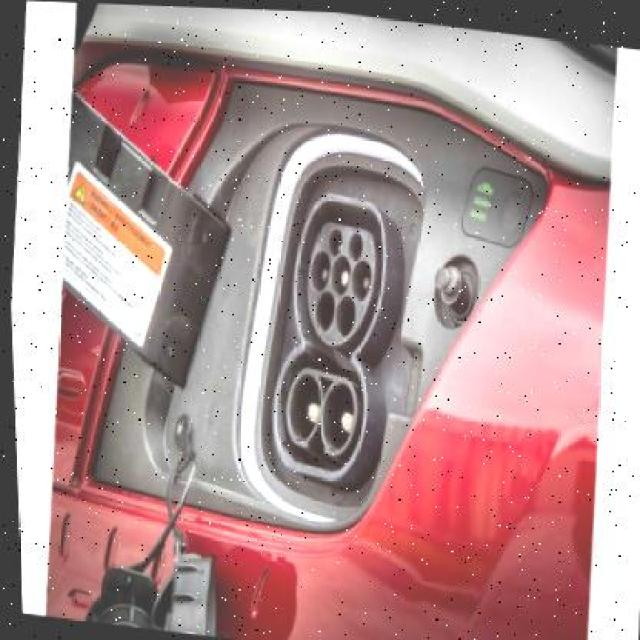CCS2: (257, 189, 413, 503)
